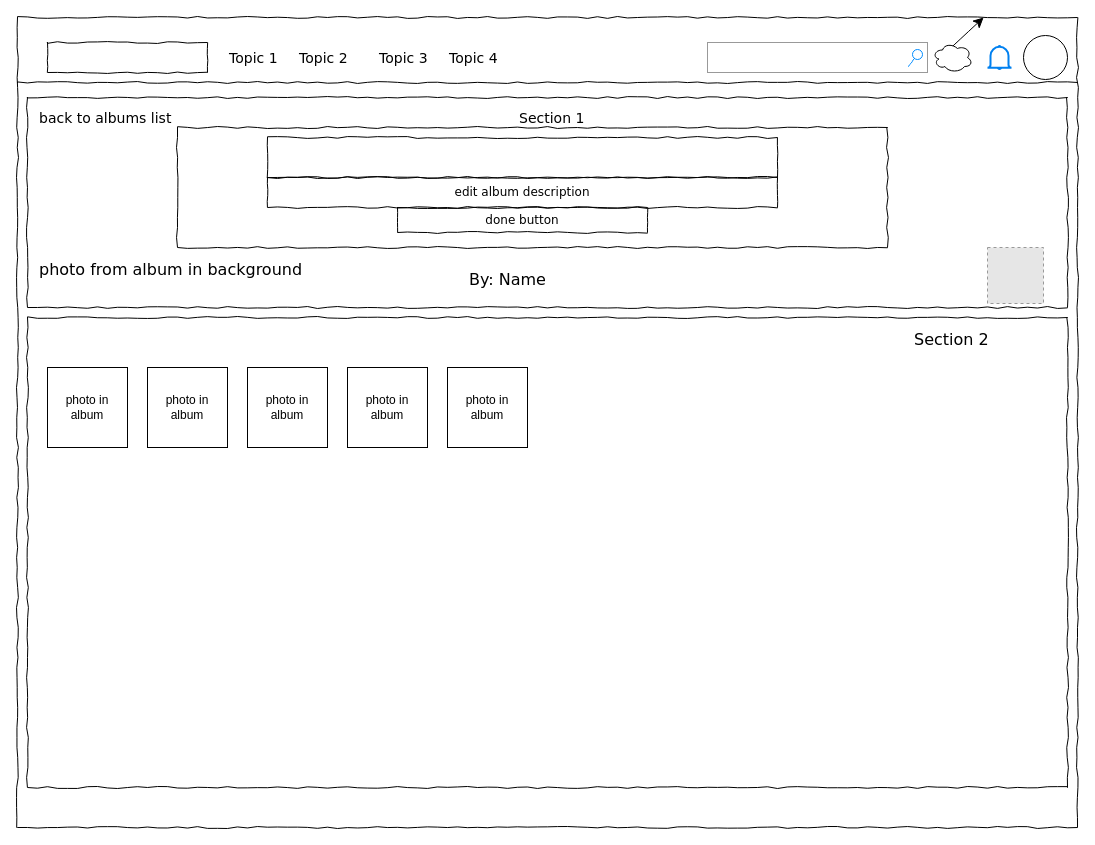
This 1095x845 diagram has some shape labels left out. Grey dashed boxes stand in for pictures. Each missing label, with the centre of its shape:
edit album name: point 522,157
LOGO: point 127,57
pfp: point 1045,57
Search: point 817,57
